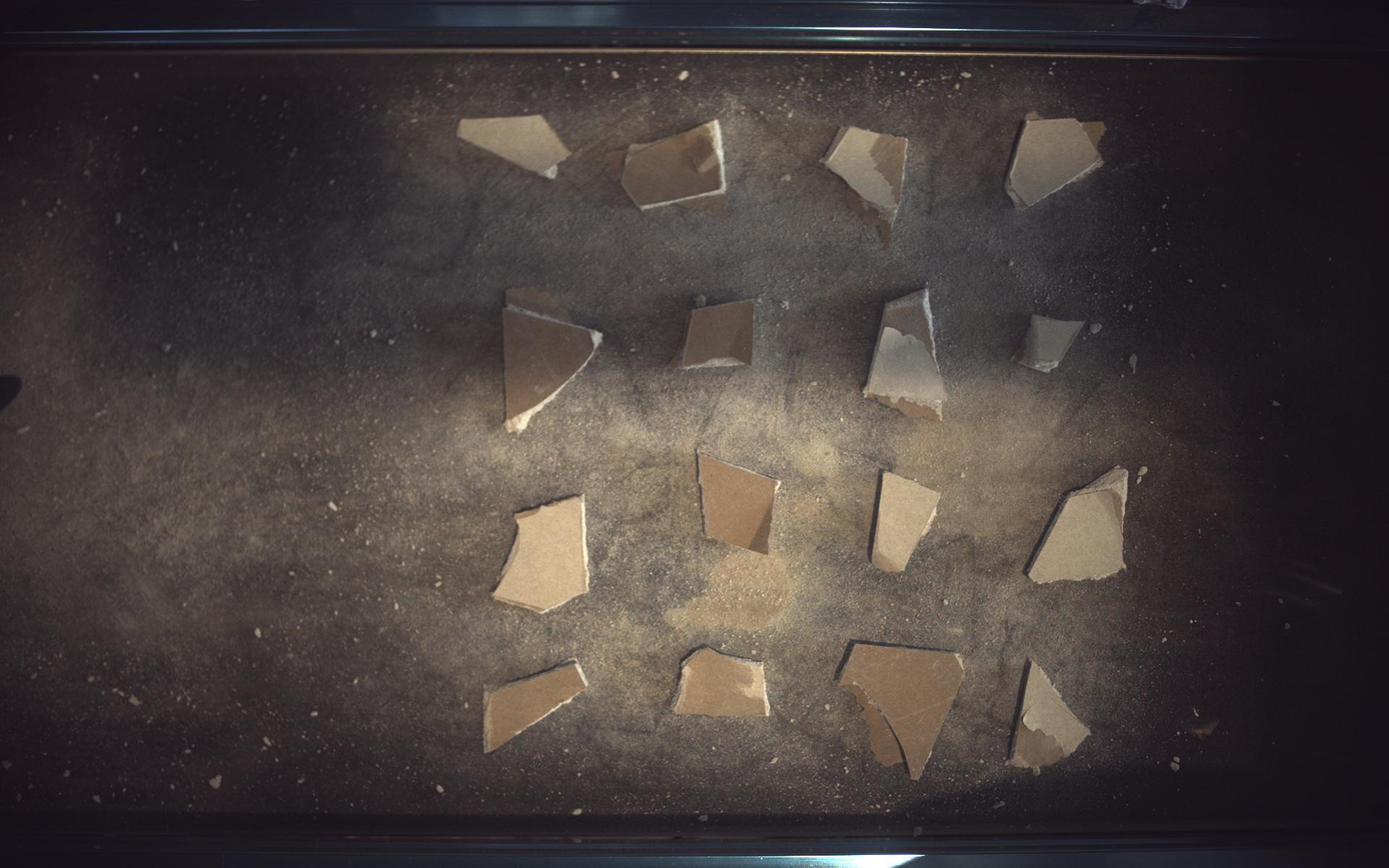gypsum_board: (841, 644, 966, 782), (503, 286, 603, 433), (1030, 467, 1131, 584), (493, 495, 590, 614), (865, 286, 948, 421), (823, 125, 909, 250), (621, 119, 727, 217), (1007, 110, 1108, 208), (483, 662, 588, 754), (1010, 660, 1092, 770), (699, 453, 781, 555), (457, 114, 571, 178), (873, 472, 943, 573), (673, 648, 771, 718), (680, 300, 757, 369), (1014, 314, 1087, 373)
